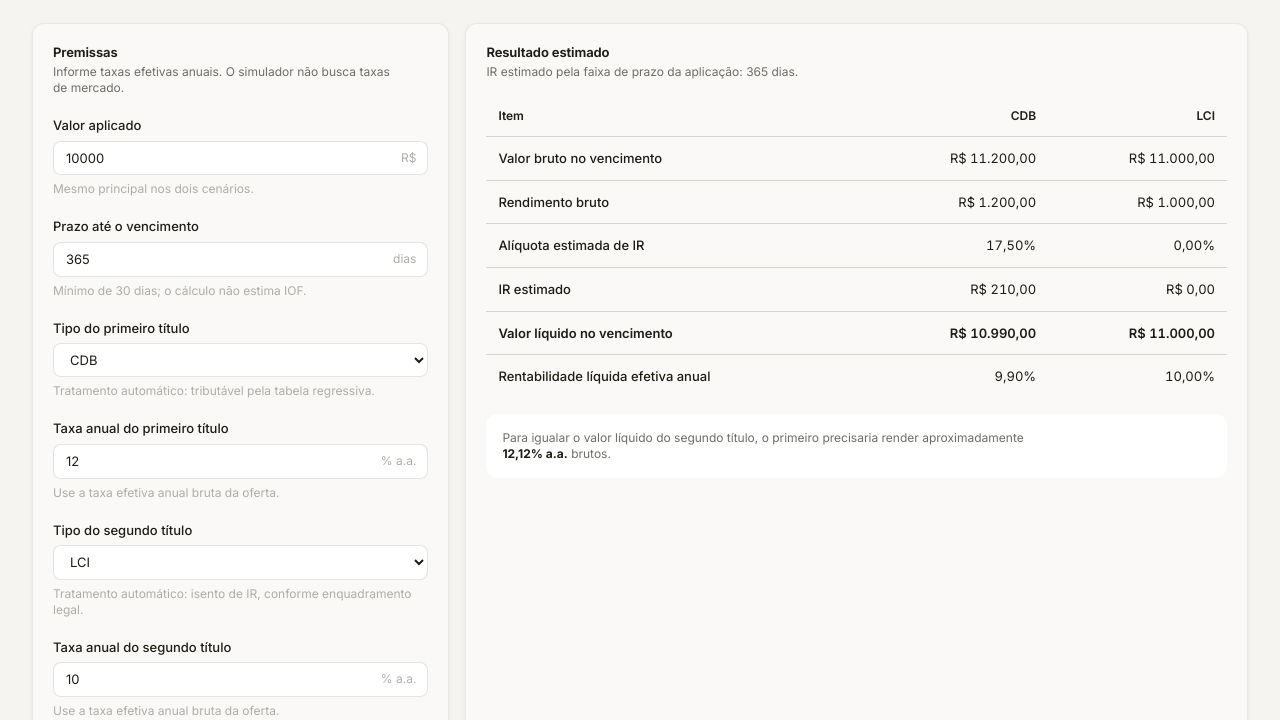
Test: FixedIncomeCalculatorPage › does not interpret an empty assumption as zero
Clear the number field named "Taxa anual do primeiro título" at (241, 461), box [53,444,428,479]
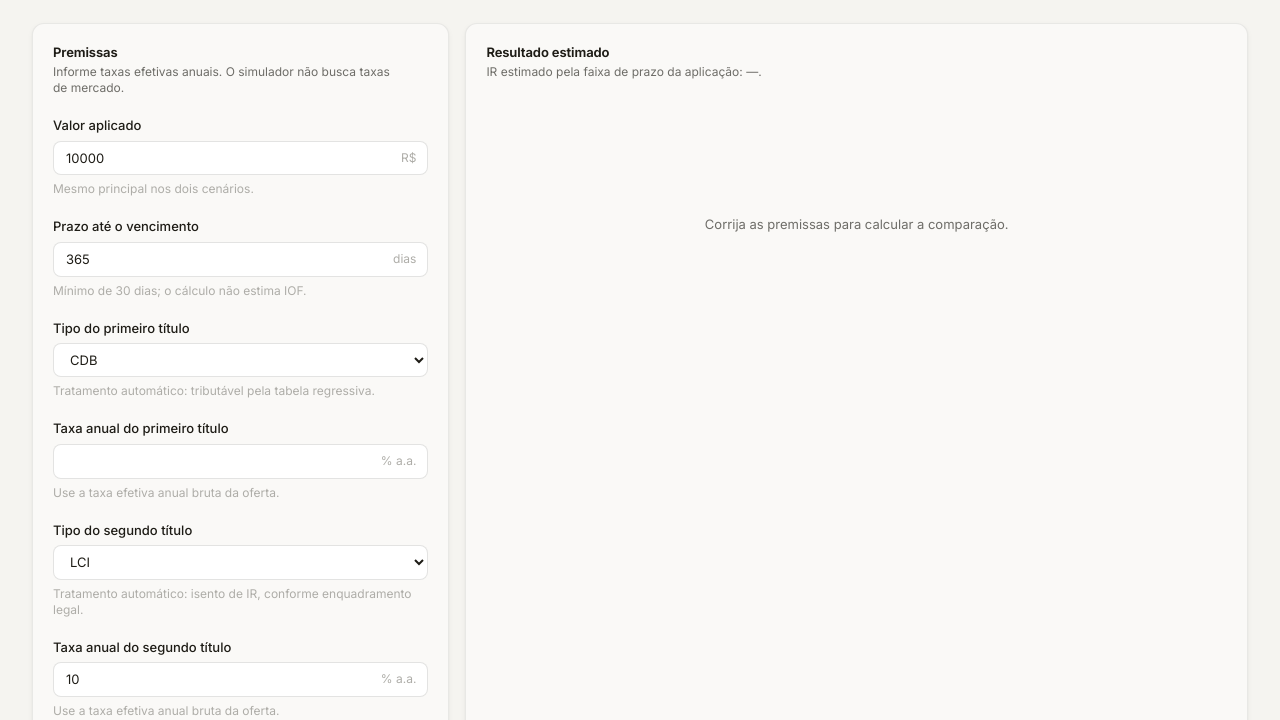
Result: the text "Corrija as premissas para calcular a comparação." is shown at [705,216,1009,232]
